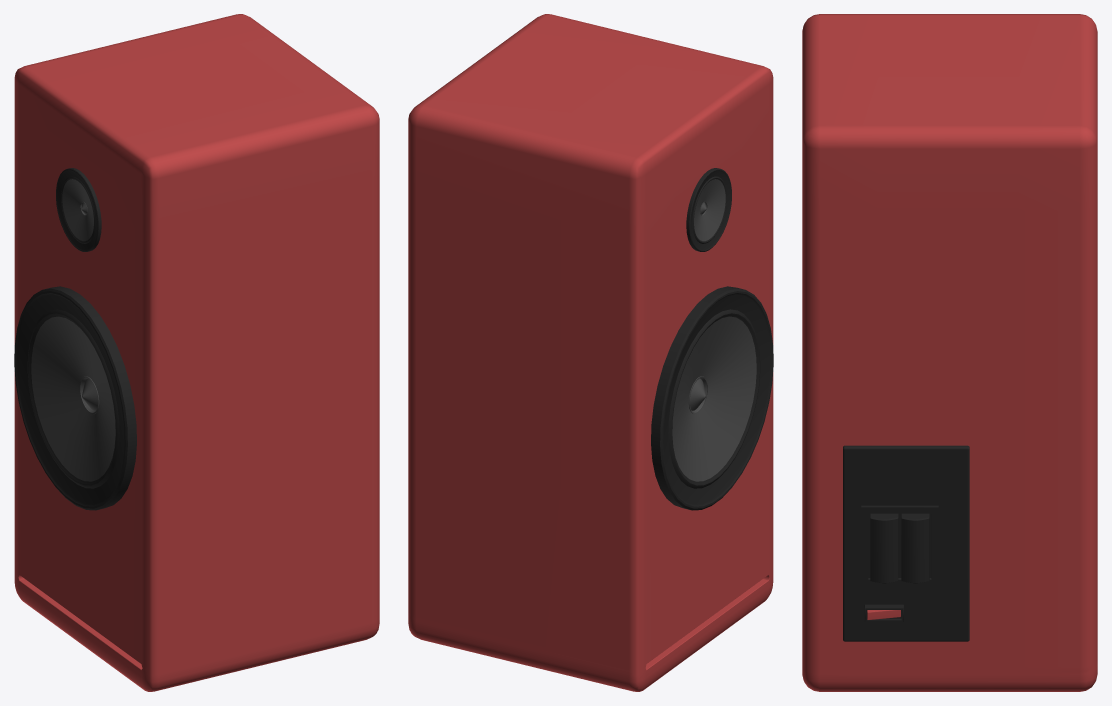
The model's file is Speakers_2.fbx.
The picture shows the model from 3 angles, left to right: view 1: azimuth 30°, elevation 25°; view 2: azimuth 150°, elevation 25°; view 3: azimuth 270°, elevation 25°; orthographic projection. The views are drawn at different scales.
Parts seen in each view (by area): view 1: Speakers; view 2: Speakers; view 3: Speakers.
Part boxes in pixels (x1,y1,x2,y2): Speakers: [14, 14, 379, 691]; Speakers: [408, 14, 773, 691]; Speakers: [802, 14, 1097, 691].
Size of the model in its own units: 8.51 by 16.45 by 7.8.
